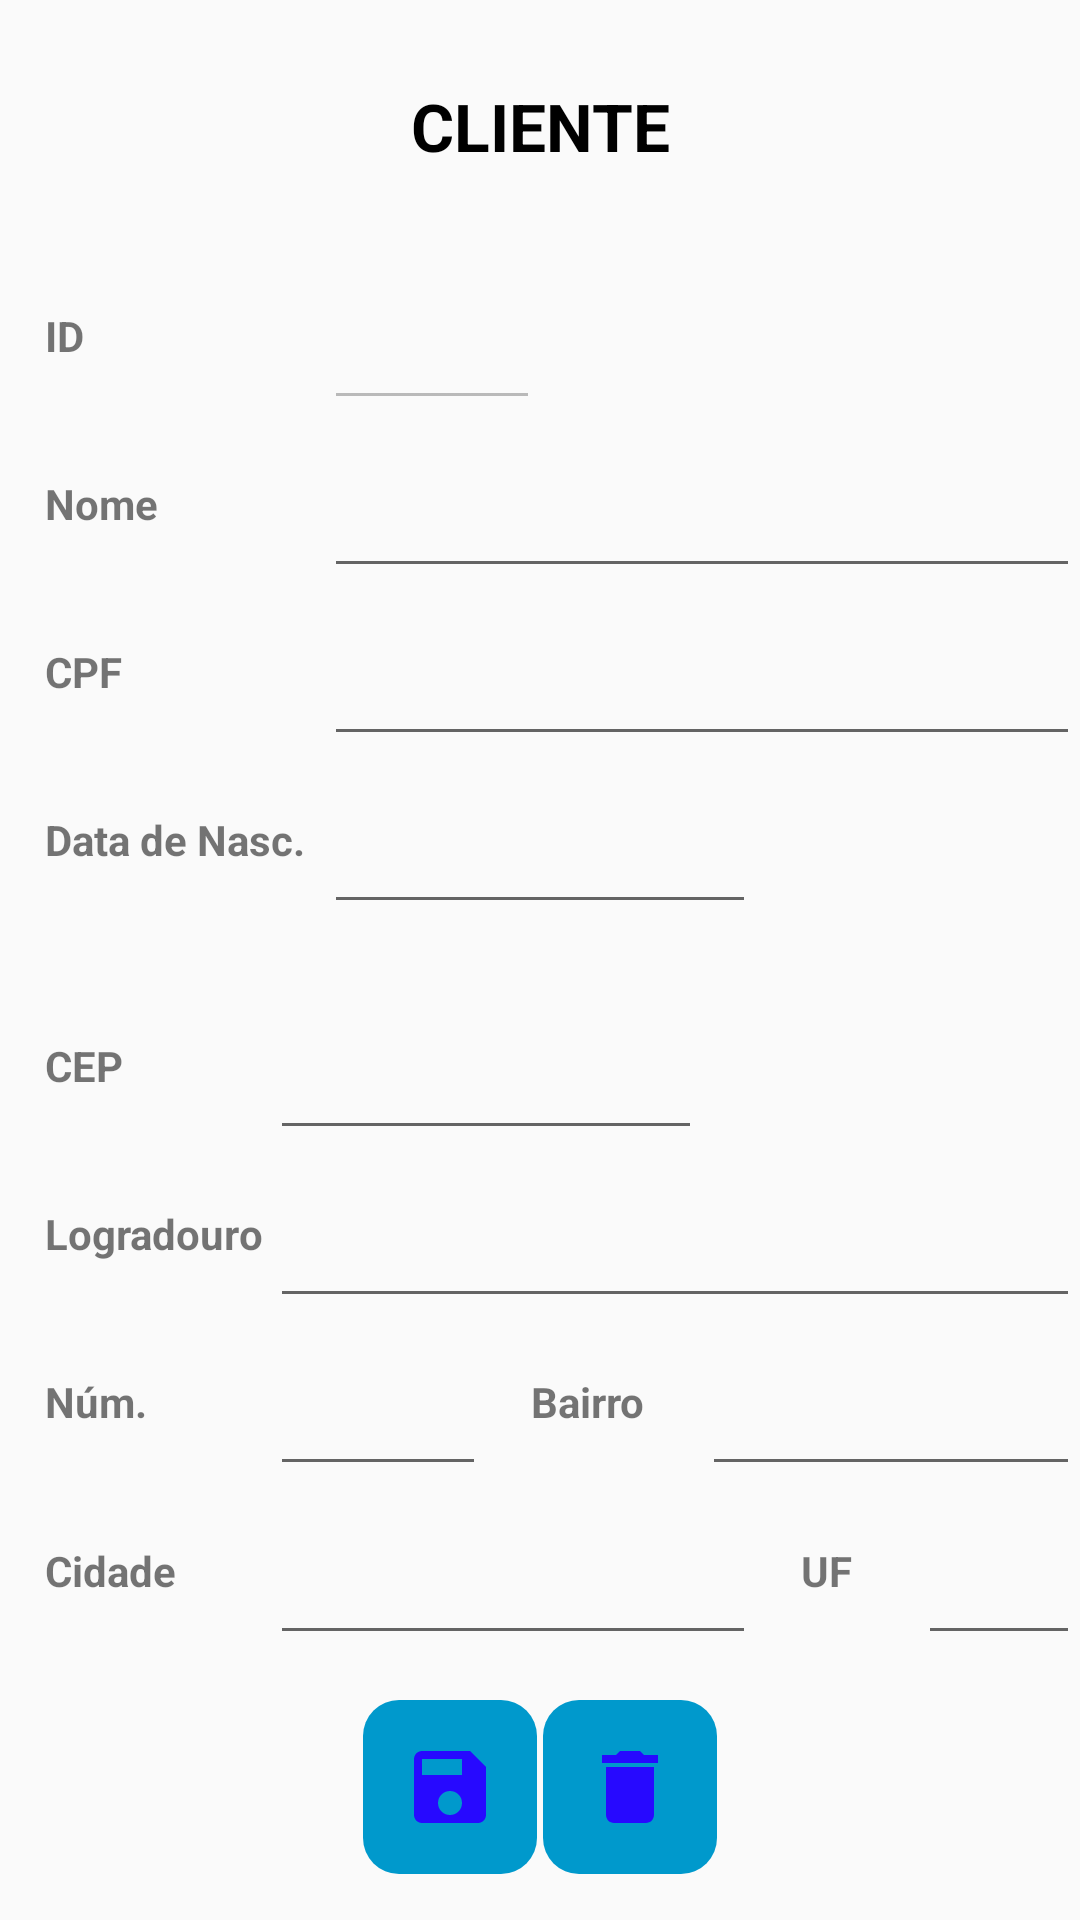

Locate icon controls on the screen. Image size 1080 x 1920, boxes as rect(x1, y1, x2, y2).
DELETAR: rect(543, 1700, 717, 1874)
SALVAR: rect(363, 1700, 537, 1874)
